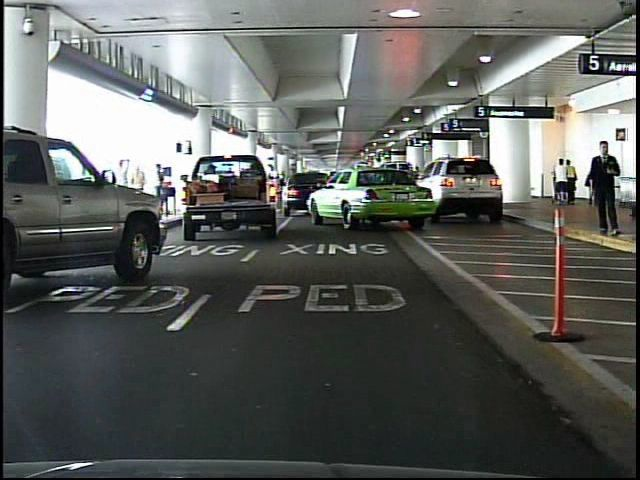person: (588, 137, 624, 243), (553, 157, 569, 206), (565, 158, 579, 209), (152, 160, 174, 189)
